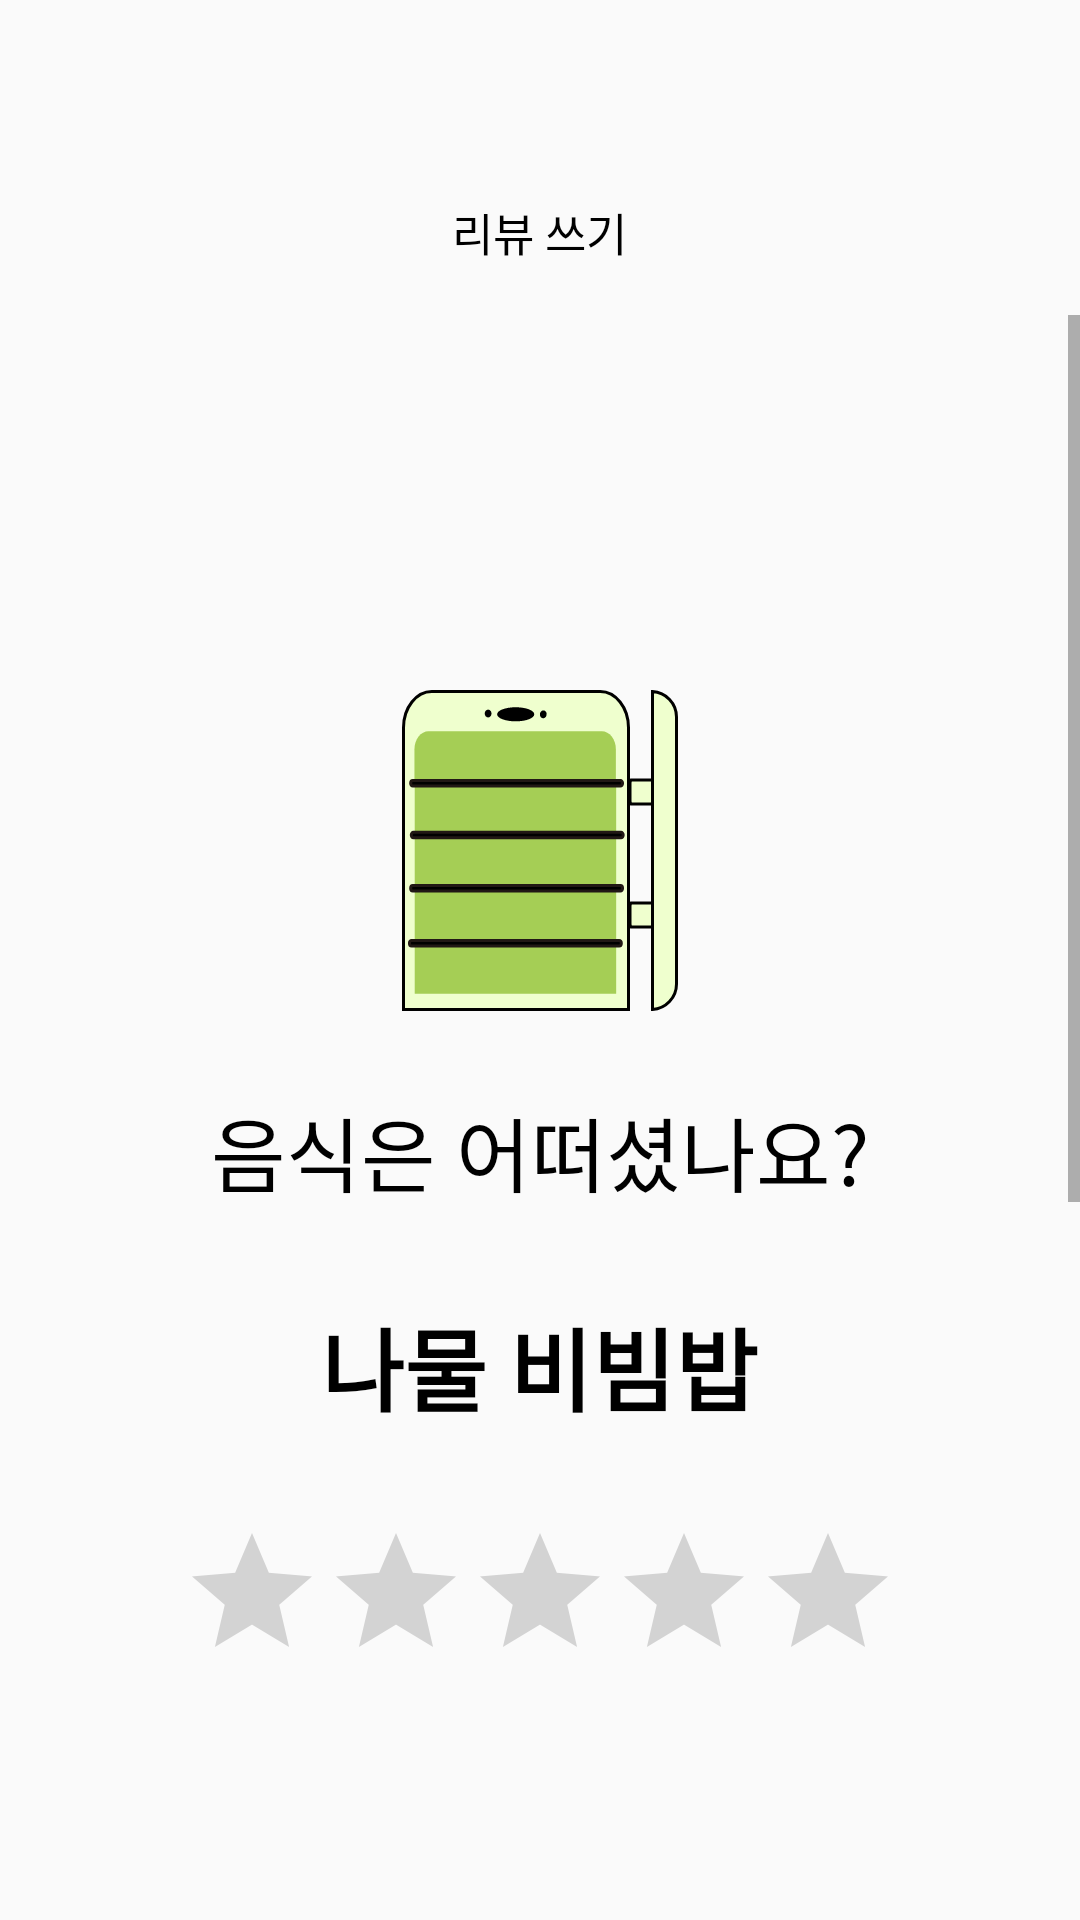

Named icons in this screenshot (1080px x 1920px) and their bounding boxes, (x1, y1, x2, y2):
open refregiator: (402, 690, 678, 1011)
